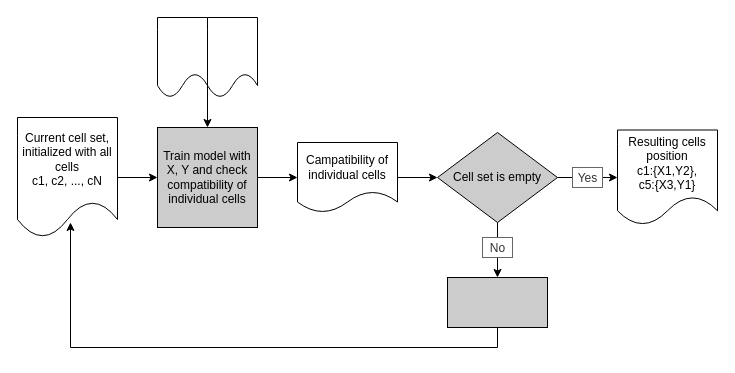
This 735x373 diagram has some shape labels left out. Here are the shapes that lost their labels. From the top down, the box of each, then its label:
(156, 16, 208, 98): Streak data of X axis
(206, 16, 258, 98): Streak data of Y axis
(446, 276, 548, 328): Drop cells that are not campatible
